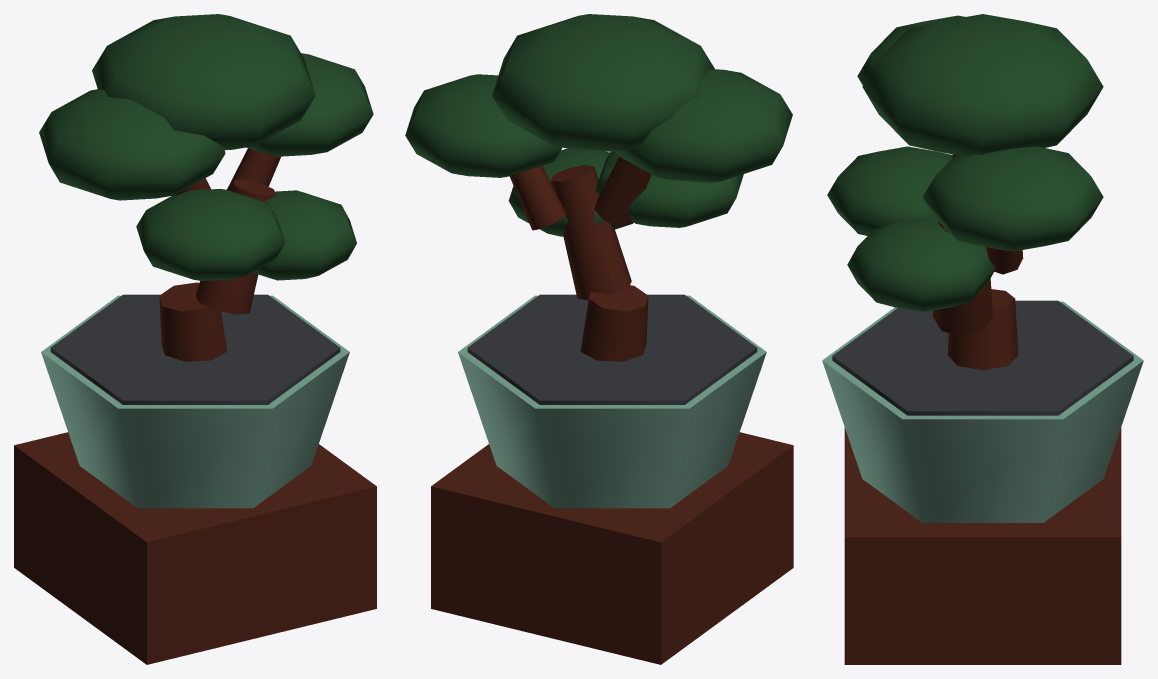
Rendered from pal1-inn-bonsai.glb.
3 renders of one model, left to right at view 1: azimuth 30°, elevation 25°; view 2: azimuth 150°, elevation 25°; view 3: azimuth 270°, elevation 25°, orthographic. The views are drawn at different scales.
Bounding box in the file's own units: 0.82 × 1.27 × 0.64.
